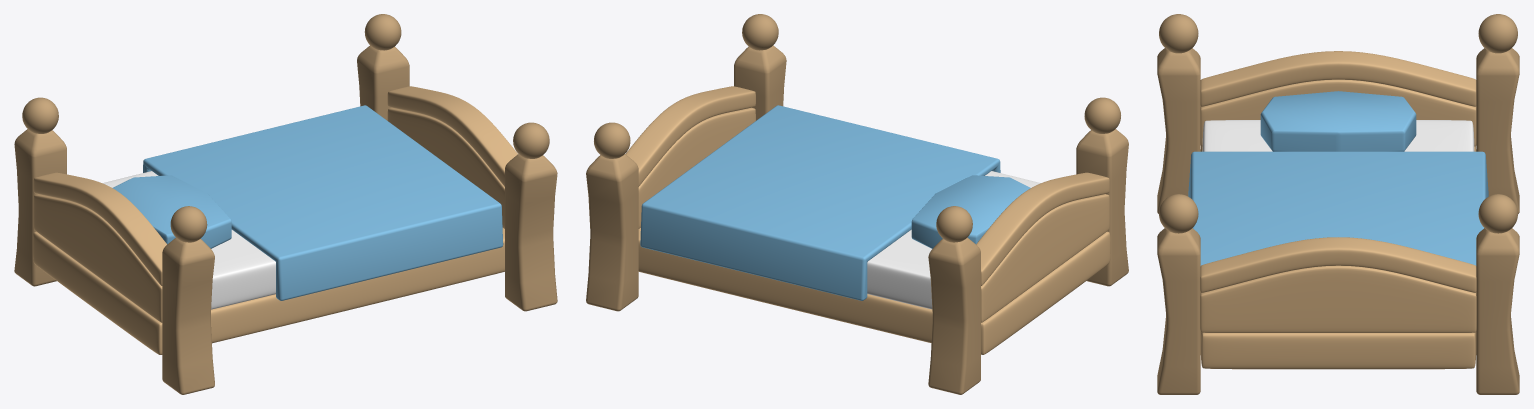
The model's file is single_bed.glb.
The picture shows the model from 3 angles, left to right: view 1: azimuth 30°, elevation 25°; view 2: azimuth 150°, elevation 25°; view 3: azimuth 270°, elevation 25°; orthographic projection. The views are drawn at different scales.
Parts seen in each view (by area): view 1: single_bed; view 2: single_bed; view 3: single_bed.
Part boxes in pixels (<box>): single_bed: <box>14,14,557,394</box>; single_bed: <box>586,14,1128,394</box>; single_bed: <box>1157,14,1519,394</box>.
Size of the model in its own units: 1.79 by 0.7928 by 1.36.
